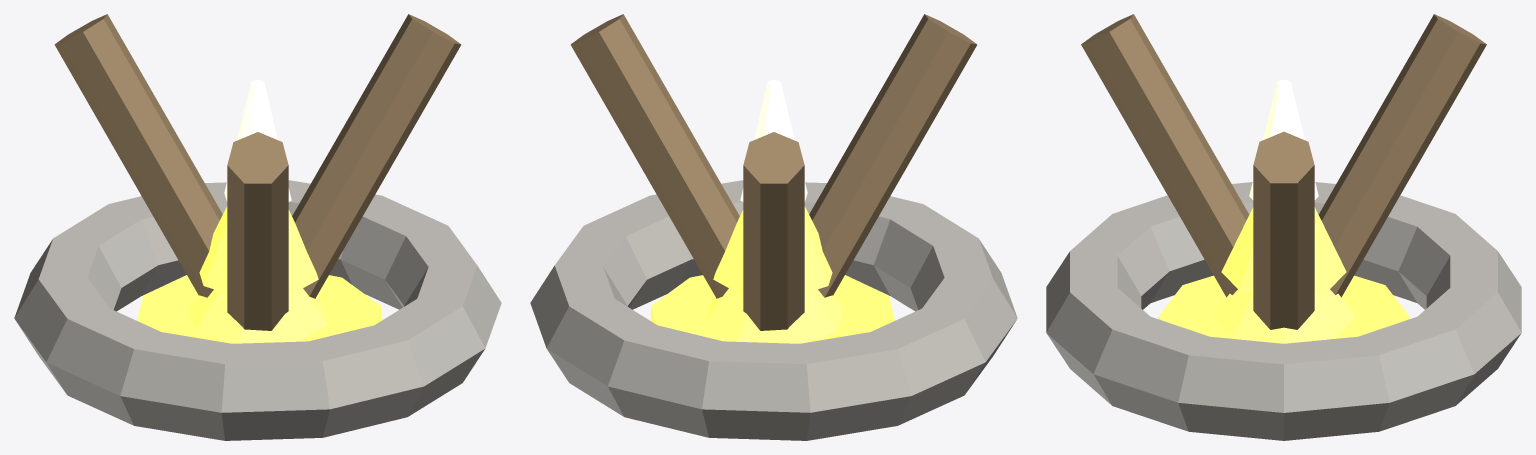
File: campfire.dae
3 views of the same model, side by side, from view 1: azimuth 30°, elevation 25°; view 2: azimuth 150°, elevation 25°; view 3: azimuth 270°, elevation 25° (orthographic).
Parts seen in each view (by area): view 1: Torus, Cylinder, Cylinder.001, Cylinder.002, Cylinder.003, Cone, Cone.001, Cone.002; view 2: Torus, Cylinder, Cylinder.002, Cylinder.001, Cylinder.003, Cone, Cone.001, Cone.002; view 3: Torus, Cylinder.002, Cylinder.001, Cylinder, Cylinder.003, Cone, Cone.001, Cone.002.
Part boxes in pixels (x1,y1,x2,y2): Torus: (14,180,501,440); Cylinder: (292,14,461,298); Cylinder.001: (54,14,222,297); Cylinder.002: (227,132,288,330); Cylinder.003: (137,275,380,342); Cone: (188,288,327,343); Cone.001: (199,206,318,295); Cone.002: (224,80,291,201); Torus: (530,180,1017,440); Cylinder: (570,14,739,298); Cylinder.002: (809,14,977,297); Cylinder.001: (743,132,804,330); Cylinder.003: (651,275,894,342); Cone: (704,288,843,343); Cone.001: (713,206,832,295); Cone.002: (740,80,807,201); Torus: (1046,182,1521,440); Cylinder.002: (1081,14,1249,297); Cylinder.001: (1318,14,1486,297); Cylinder: (1253,131,1314,329); Cylinder.003: (1158,275,1409,339); Cone: (1211,289,1356,343); Cone.001: (1221,207,1346,292); Cone.002: (1249,79,1318,199).
Bounding box in the file's own units: 70 × 68.24 × 54.06.
